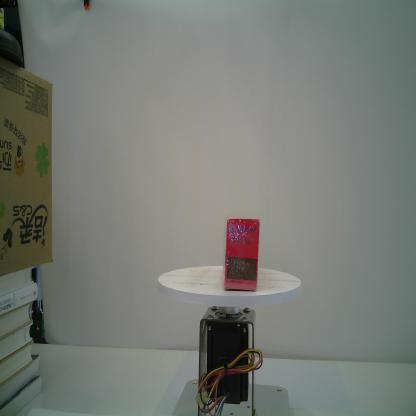Instant Drink: (224, 218, 259, 291)
